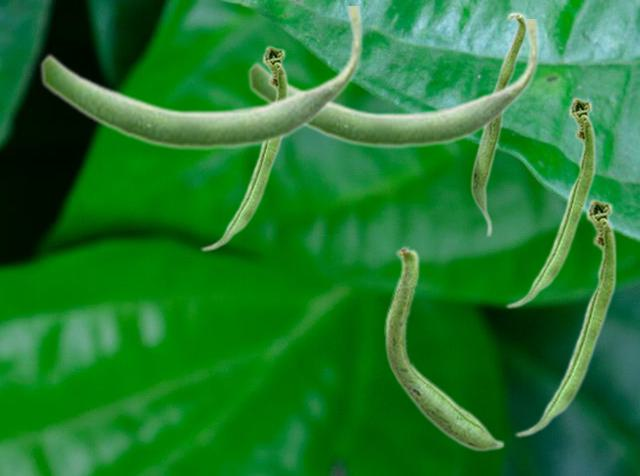french_bean: (39, 6, 363, 151), (247, 19, 539, 149), (384, 244, 504, 451), (514, 197, 616, 437), (505, 96, 595, 308), (200, 44, 288, 251), (470, 11, 526, 237)
